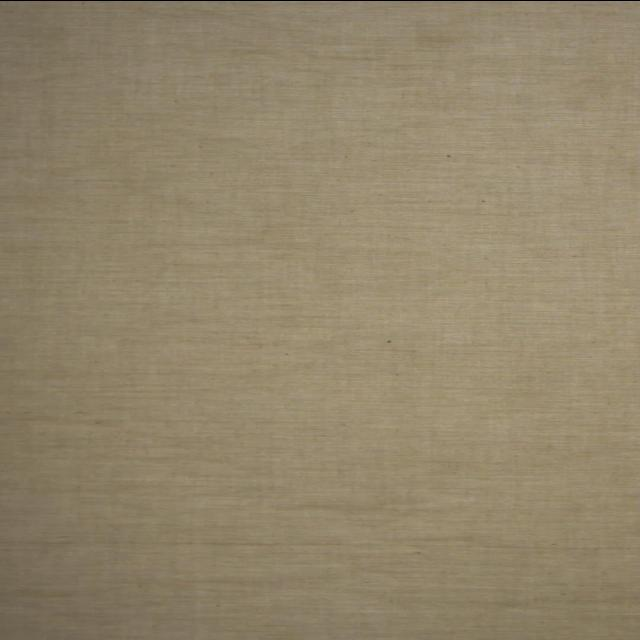dirty: (410, 36, 460, 44)
